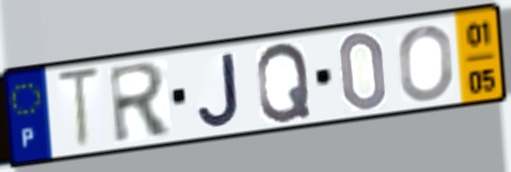0: (336, 29, 389, 114)
J: (195, 50, 243, 130)
O: (397, 22, 457, 103)
Q: (254, 40, 314, 126)
R: (105, 59, 176, 147)
T: (53, 64, 104, 154)
